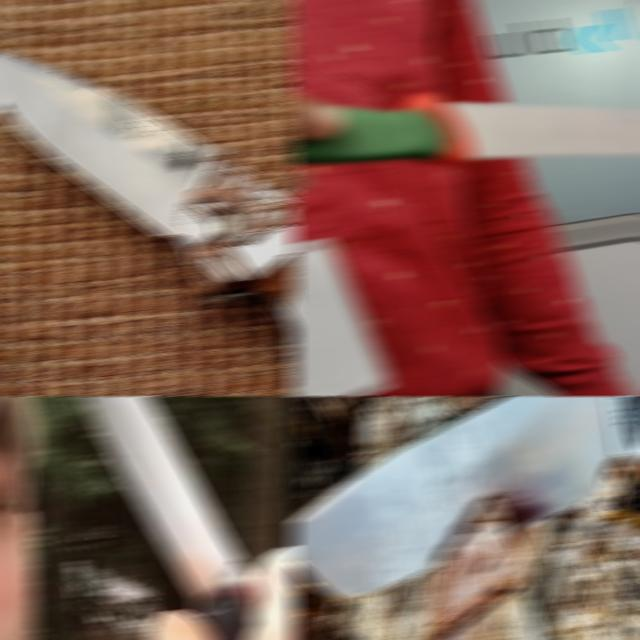Knife: (79, 396, 260, 640), (290, 92, 640, 163)
